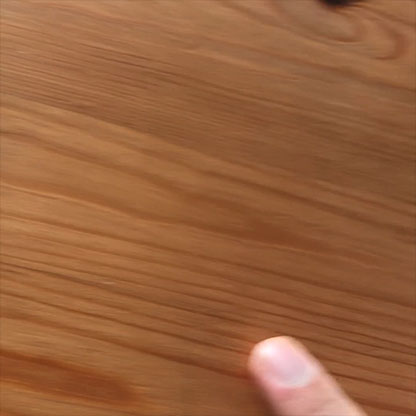fingertip: (235, 331, 341, 408)
